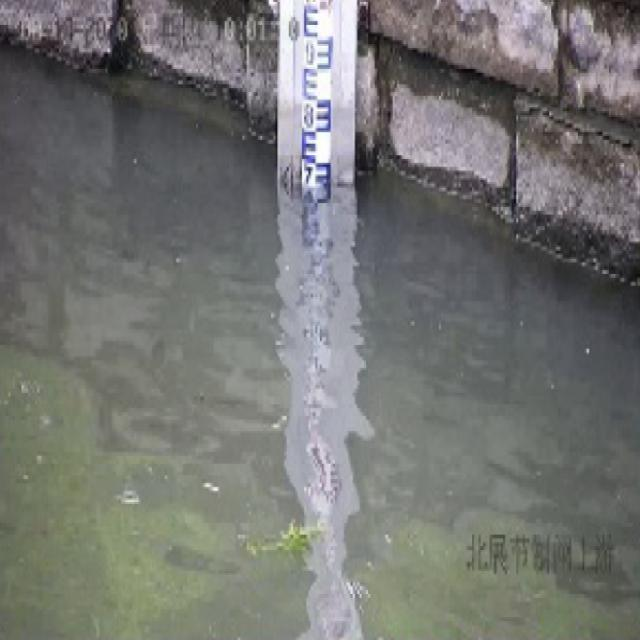water-level-meters: (278, 0, 357, 499)
